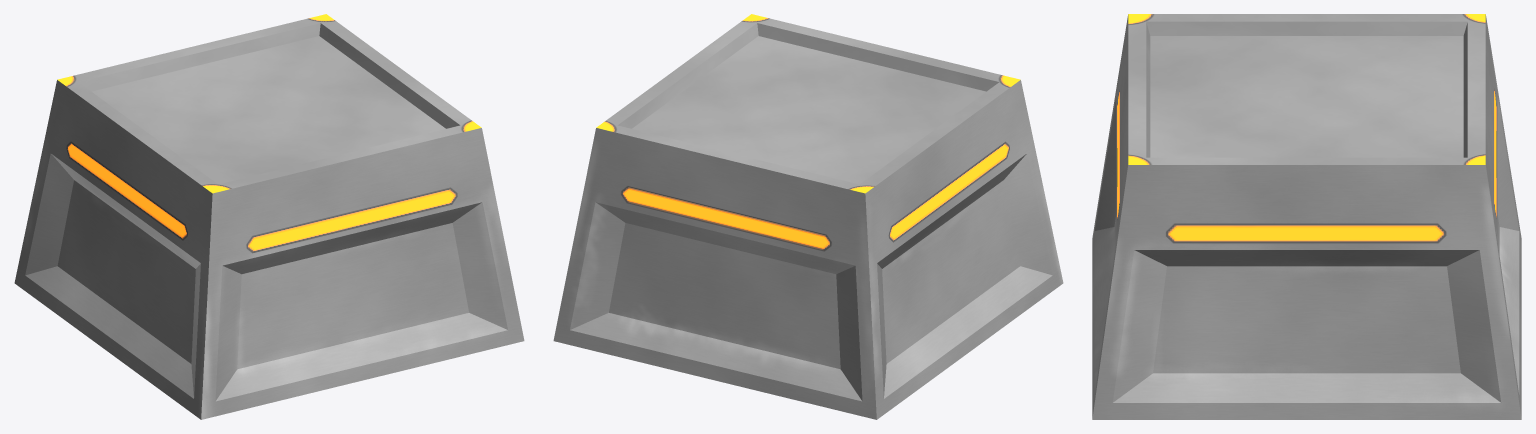
File: Platform_Turret.fbx
The picture shows the model from 3 angles, left to right: view 1: azimuth 30°, elevation 25°; view 2: azimuth 150°, elevation 25°; view 3: azimuth 270°, elevation 25°; orthographic projection. The views are drawn at different scales.
Parts seen in each view (by area): view 1: Platform_Turret; view 2: Platform_Turret; view 3: Platform_Turret.
Part boxes in pixels (x1=…): Platform_Turret: x1=14, y1=14, x2=524, y2=419; Platform_Turret: x1=553, y1=14, x2=1063, y2=419; Platform_Turret: x1=1092, y1=14, x2=1521, y2=419.
Bounding box in the file's own units: 655 × 403 × 655.
1 material, 1 textured.
